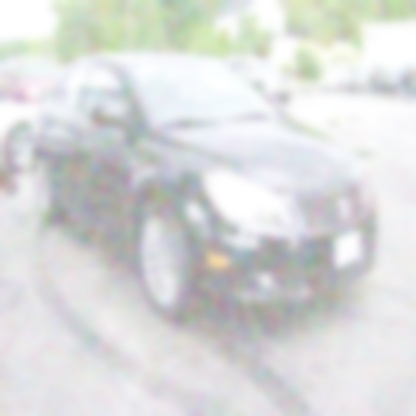Vehicle: (33, 51, 375, 323)
